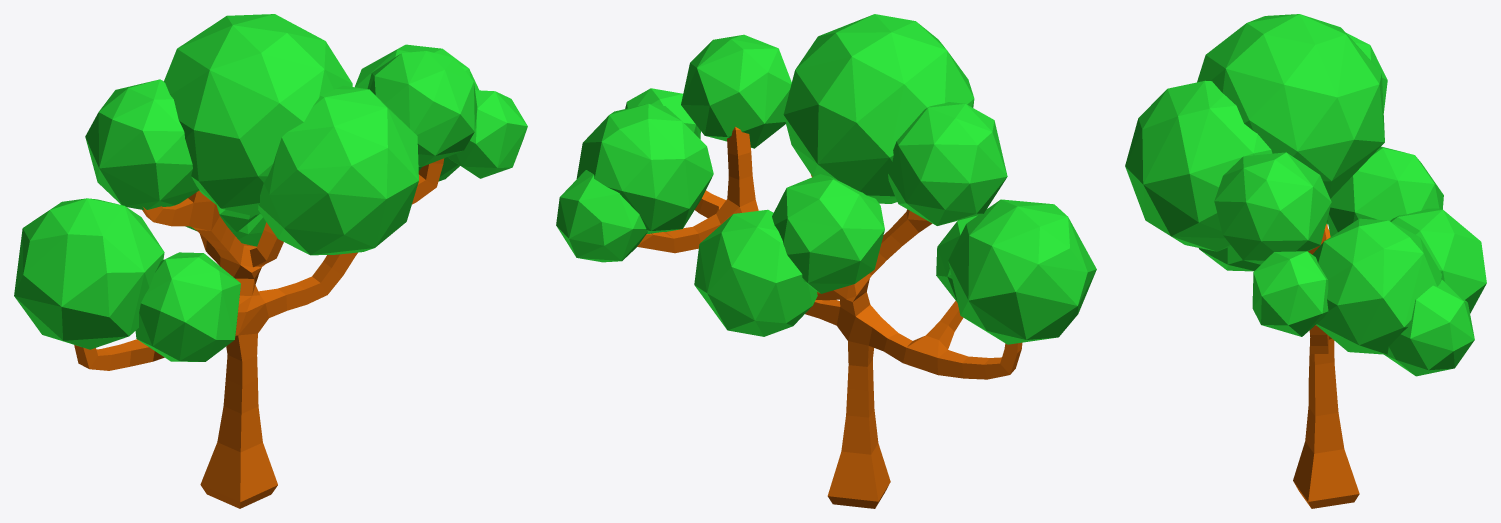
Rendered from Arvore.fbx.
The picture shows the model from 3 angles, left to right: view 1: azimuth 30°, elevation 25°; view 2: azimuth 150°, elevation 25°; view 3: azimuth 270°, elevation 25°; orthographic projection. The views are drawn at different scales.
Visible parts, largest first — view 1: Folha_5, tronco; view 2: Folha_5, tronco; view 3: Folha_5, tronco.
Part boxes in pixels (x1=…): Folha_5: x1=14, y1=14, x2=527, y2=361; tronco: x1=74, y1=158, x2=444, y2=508; Folha_5: x1=556, y1=14, x2=1096, y2=344; tronco: x1=637, y1=126, x2=1022, y2=508; Folha_5: x1=1125, y1=14, x2=1486, y2=376; tronco: x1=1293, y1=224, x2=1359, y2=508.
Size of the model in its own units: 1071 by 1008 by 697.
